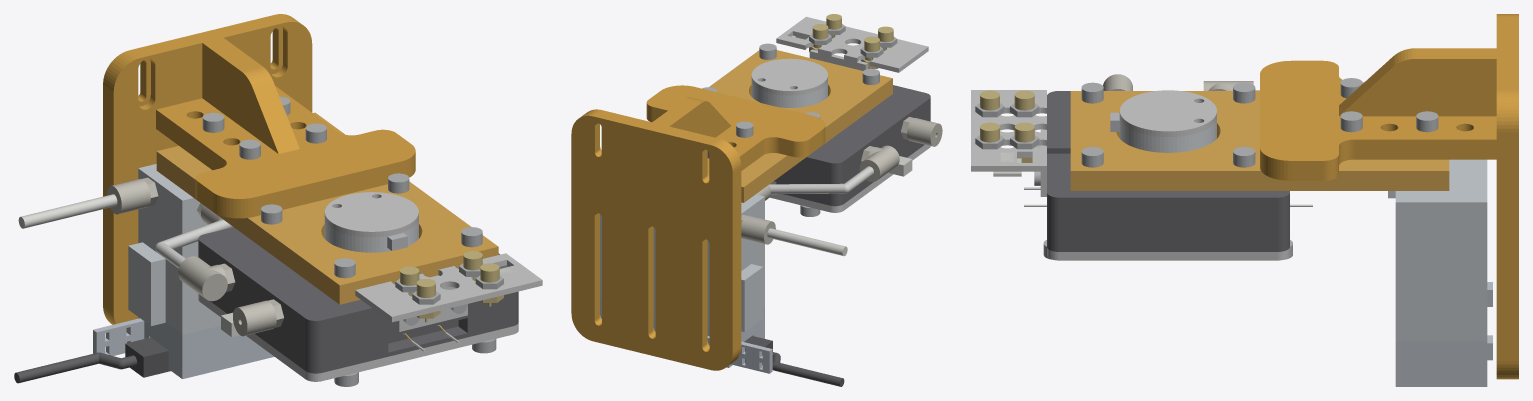
The picture shows the model from 3 angles, left to right: view 1: azimuth 30°, elevation 25°; view 2: azimuth 150°, elevation 25°; view 3: azimuth 270°, elevation 25°; orthographic projection. The views are drawn at different scales.
Parts seen in each view (by area): view 1: Grace 2025 앵글 브래킷 "angle bracket for Ramen holder.STEP" (형상 , 셀 몸체 v6.0 Al 6061 흑색 아노다이징 80x77x19 R4 (공동 69x62 깊이 9, ±Z 경사, Grace 새 세로판 60x120x7 (재출력, 레진 가정), Ø4.5 x4 48x48, Ø33, 배기 블록, [배기 블록 v2] 배기 센서 블록 본체 PETG 60x29x48.5 (가스 몸 17.5 + 센서 칸 31,, [배기 블록 v2] 덮개 PETG 60x29x16 (판 2 + Pico 트레이 14): Pico 보스 4, , 커넥터 브래킷 Al (밑판 26x18x2 + 판 57x24x2; v4.7 부품 그대로, 윗면 Z 38.5):, 퍽 Al 방열 원판 Ø30.8x2 (가정, PETG 벽 끝에 2액형 에폭시), 나사 공구 구멍 Ø3.2 x2, [배기 블록 v2] USB 케이블 (노트북으로, 타이로 선반에 고정; 노트북은 허치 안 가능), 뚜껑 Al 6061 흑색 아노다이징 (마스킹 없음, 필름 접착면 포함): 판 80x77x3 (Y -12…-9, 가스 KQ2L04-M5 엘보 출구 −X 옆면 (Y 4.5, Z -16, 관 포트 아래로; 외형 가정) → 배, SMA 암 판넬 잭 x4 (SAMZO SMA-KY-214형, 가정), M4x12 렌치볼트 x4 (판 뒤에서 몸체 M4 탭으로) (+8 smaller); view 2: Grace 2025 앵글 브래킷 "angle bracket for Ramen holder.STEP" (형상 , 셀 몸체 v6.0 Al 6061 흑색 아노다이징 80x77x19 R4 (공동 69x62 깊이 9, ±Z 경사, Grace 새 세로판 60x120x7 (재출력, 레진 가정), Ø4.5 x4 48x48, Ø33, 배기 블록, 커넥터 브래킷 Al (밑판 26x18x2 + 판 57x24x2; v4.7 부품 그대로, 윗면 Z 38.5):, [배기 블록 v2] 배기 센서 블록 본체 PETG 60x29x48.5 (가스 몸 17.5 + 센서 칸 31,, 퍽 Al 방열 원판 Ø30.8x2 (가정, PETG 벽 끝에 2액형 에폭시), 나사 공구 구멍 Ø3.2 x2, [배기 블록 v2] 덮개 PETG 60x29x16 (판 2 + Pico 트레이 14): Pico 보스 4, , PU 관 Ø4 (셀 출구 엘보 → 배기 블록 v2 입구; MS8607 4716은 이 블록의 SHT45 자리에, SMA 암 판넬 잭 x4 (SAMZO SMA-KY-214형, 가정), 뒤 빛 퍽 PETG Ø30.8 (앞 플랜지 2 = 앞 턱 0.5 (Ø19) + 뒤 자리 Ø20.4x1.5, , [배기 블록 v2] USB 케이블 (노트북으로, 타이로 선반에 고정; 노트북은 허치 안 가능), 뚜껑 Al 6061 흑색 아노다이징 (마스킹 없음, 필름 접착면 포함): 판 80x77x3 (Y -12…-9 (+6 smaller); view 3: Grace 2025 앵글 브래킷 "angle bracket for Ramen holder.STEP" (형상 , 셀 몸체 v6.0 Al 6061 흑색 아노다이징 80x77x19 R4 (공동 69x62 깊이 9, ±Z 경사, Grace 새 세로판 60x120x7 (재출력, 레진 가정), Ø4.5 x4 48x48, Ø33, 배기 블록, [배기 블록 v2] 배기 센서 블록 본체 PETG 60x29x48.5 (가스 몸 17.5 + 센서 칸 31,, [배기 블록 v2] 덮개 PETG 60x29x16 (판 2 + Pico 트레이 14): Pico 보스 4, , 커넥터 브래킷 Al (밑판 26x18x2 + 판 57x24x2; v4.7 부품 그대로, 윗면 Z 38.5):, 퍽 Al 방열 원판 Ø30.8x2 (가정, PETG 벽 끝에 2액형 에폭시), 나사 공구 구멍 Ø3.2 x2, 뚜껑 Al 6061 흑색 아노다이징 (마스킹 없음, 필름 접착면 포함): 판 80x77x3 (Y -12…-9, M4x12 렌치볼트 x4 (판 뒤에서 몸체 M4 탭으로), 뒤 빛 퍽 PETG Ø30.8 (앞 플랜지 2 = 앞 턱 0.5 (Ø19) + 뒤 자리 Ø20.4x1.5, , SMA 암 판넬 잭 x4 (SAMZO SMA-KY-214형, 가정), M4x16 볼트 + 너트 x4 (판 아래 구멍 ↔ 브래킷 세움판) (+1 smaller).
Boxes of the visible parts, <box> form: Grace 2025 앵글 브래킷 "angle bracket for Ramen holder.STEP" (형상 : <box>103,14,415,332</box>; 셀 몸체 v6.0 Al 6061 흑색 아노다이징 80x77x19 R4 (공동 69x62 깊이 9, ±Z 경사: <box>198,227,518,373</box>; Grace 새 세로판 60x120x7 (재출력, 레진 가정), Ø4.5 x4 48x48, Ø33, 배기 블록: <box>156,112,498,304</box>; [배기 블록 v2] 배기 센서 블록 본체 PETG 60x29x48.5 (가스 몸 17.5 + 센서 칸 31,: <box>128,164,220,334</box>; [배기 블록 v2] 덮개 PETG 60x29x16 (판 2 + Pico 트레이 14): Pico 보스 4, : <box>93,317,274,379</box>; 커넥터 브래킷 Al (밑판 26x18x2 + 판 57x24x2; v4.7 부품 그대로, 윗면 Z 38.5):: <box>355,253,542,331</box>; 퍽 Al 방열 원판 Ø30.8x2 (가정, PETG 벽 끝에 2액형 에폭시), 나사 공구 구멍 Ø3.2 x2: <box>324,192,418,237</box>; [배기 블록 v2] USB 케이블 (노트북으로, 타이로 선반에 고정; 노트북은 허치 안 가능): <box>14,337,170,383</box>; 뚜껑 Al 6061 흑색 아노다이징 (마스킹 없음, 필름 접착면 포함): 판 80x77x3 (Y -12…-9: <box>198,294,518,381</box>; 가스 KQ2L04-M5 엘보 출구 −X 옆면 (Y 4.5, Z -16, 관 포트 아래로; 외형 가정) → 배: <box>178,256,235,301</box>; SMA 암 판넬 잭 x4 (SAMZO SMA-KY-214형, 가정): <box>400,251,503,322</box>; M4x12 렌치볼트 x4 (판 뒤에서 몸체 M4 탭으로): <box>261,173,482,278</box>; Grace 2025 앵글 브래킷 "angle bracket for Ramen holder.STEP" (형상 : <box>571,85,825,370</box>; 셀 몸체 v6.0 Al 6061 흑색 아노다이징 80x77x19 R4 (공동 69x62 깊이 9, ±Z 경사: <box>770,85,930,206</box>; Grace 새 세로판 60x120x7 (재출력, 레진 가정), Ø4.5 x4 48x48, Ø33, 배기 블록: <box>709,50,892,202</box>; 커넥터 브래킷 Al (밑판 26x18x2 + 판 57x24x2; v4.7 부품 그대로, 윗면 Z 38.5):: <box>776,16,928,72</box>; [배기 블록 v2] 배기 센서 블록 본체 PETG 60x29x48.5 (가스 몸 17.5 + 센서 칸 31,: <box>600,194,764,331</box>; 퍽 Al 방열 원판 Ø30.8x2 (가정, PETG 벽 끝에 2액형 에폭시), 나사 공구 구멍 Ø3.2 x2: <box>751,58,827,95</box>; [배기 블록 v2] 덮개 PETG 60x29x16 (판 2 + Pico 트레이 14): Pico 보스 4, : <box>600,300,772,373</box>; PU 관 Ø4 (셀 출구 엘보 → 배기 블록 v2 입구; MS8607 4716은 이 블록의 SHT45 자리에: <box>769,166,873,194</box>; SMA 암 판넬 잭 x4 (SAMZO SMA-KY-214형, 가정): <box>809,14,893,68</box>; 뒤 빛 퍽 PETG Ø30.8 (앞 플랜지 2 = 앞 턱 0.5 (Ø19) + 뒤 자리 Ø20.4x1.5, : <box>751,81,827,107</box>; [배기 블록 v2] USB 케이블 (노트북으로, 타이로 선반에 고정; 노트북은 허치 안 가능): <box>744,336,844,386</box>; 뚜껑 Al 6061 흑색 아노다이징 (마스킹 없음, 필름 접착면 포함): 판 80x77x3 (Y -12…-9: <box>769,144,930,212</box>; Grace 2025 앵글 브래킷 "angle bracket for Ramen holder.STEP" (형상 : <box>1260,14,1518,379</box>; 셀 몸체 v6.0 Al 6061 흑색 아노다이징 80x77x19 R4 (공동 69x62 깊이 9, ±Z 경사: <box>1047,91,1289,251</box>; Grace 새 세로판 60x120x7 (재출력, 레진 가정), Ø4.5 x4 48x48, Ø33, 배기 블록: <box>1070,91,1449,190</box>; [배기 블록 v2] 배기 센서 블록 본체 PETG 60x29x48.5 (가스 몸 17.5 + 센서 칸 31,: <box>1388,159,1487,341</box>; [배기 블록 v2] 덮개 PETG 60x29x16 (판 2 + Pico 트레이 14): Pico 보스 4, : <box>1395,282,1492,386</box>; 커넥터 브래킷 Al (밑판 26x18x2 + 판 57x24x2; v4.7 부품 그대로, 윗면 Z 38.5):: <box>971,90,1046,196</box>; 퍽 Al 방열 원판 Ø30.8x2 (가정, PETG 벽 끝에 2액형 에폭시), 나사 공구 구멍 Ø3.2 x2: <box>1119,90,1216,136</box>; 뚜껑 Al 6061 흑색 아노다이징 (마스킹 없음, 필름 접착면 포함): 판 80x77x3 (Y -12…-9: <box>1047,247,1289,260</box>; M4x12 렌치볼트 x4 (판 뒤에서 몸체 M4 탭으로): <box>1081,82,1255,167</box>; 뒤 빛 퍽 PETG Ø30.8 (앞 플랜지 2 = 앞 턱 0.5 (Ø19) + 뒤 자리 Ø20.4x1.5, : <box>1119,117,1216,152</box>; SMA 암 판넬 잭 x4 (SAMZO SMA-KY-214형, 가정): <box>980,90,1035,162</box>; M4x16 볼트 + 너트 x4 (판 아래 구멍 ↔ 브래킷 세움판): <box>1340,78,1438,132</box>.
Size of the model in its own units: 117 by 104 by 174.
